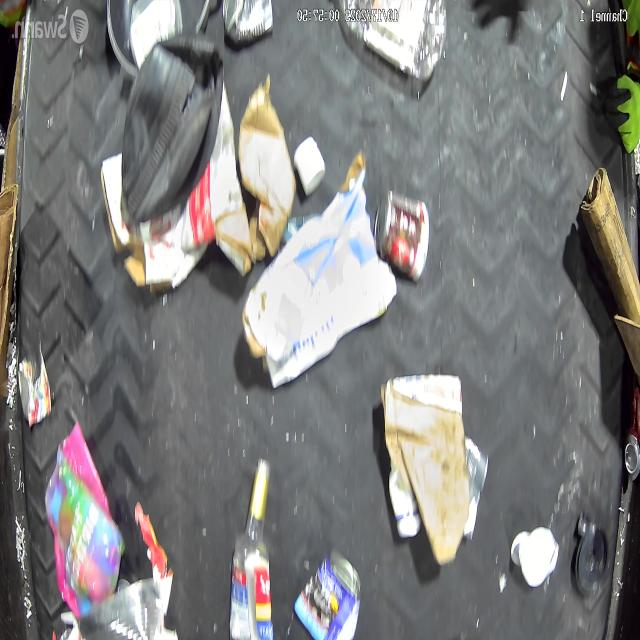can: (298, 552, 362, 640), (377, 187, 430, 280), (19, 350, 51, 428), (223, 0, 273, 42), (625, 384, 640, 480)
